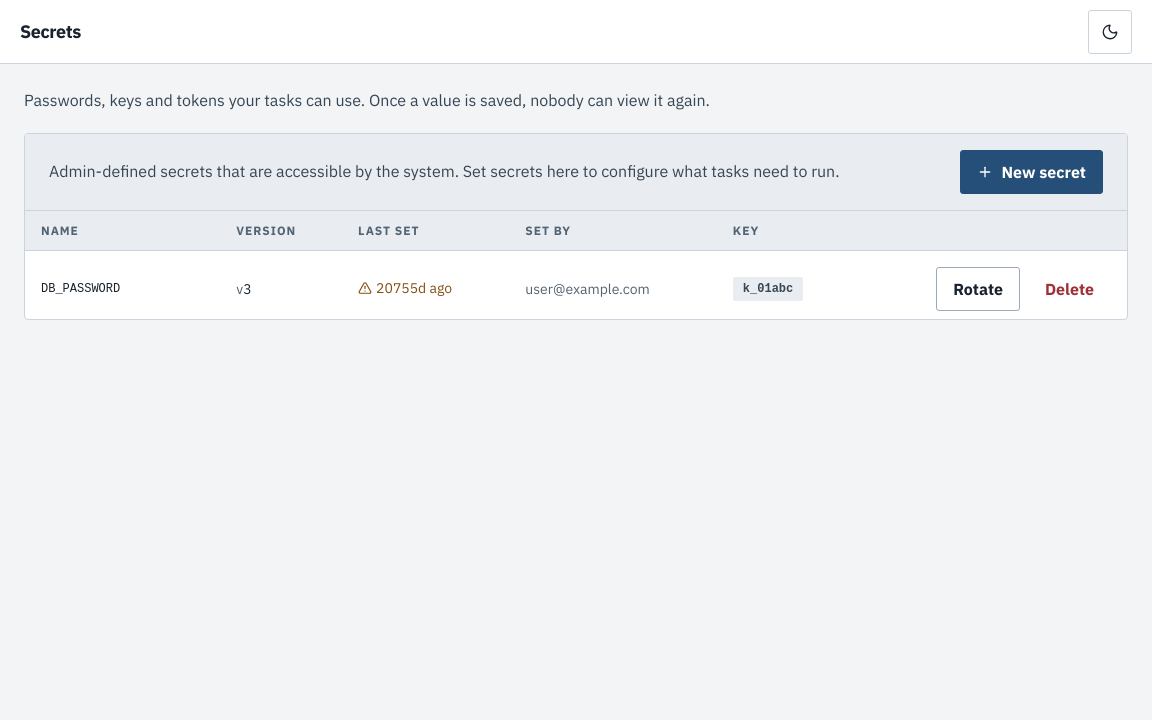
Scenario: SecretsPage › warns that setting an existing name rotates it rather than editing it
The image size is (1152, 720).
Check: the text "DB_PASSWORD" is shown, box [41,282,120,296]
Click the button "New secret": [1032, 172] box [960,150,1103,194]
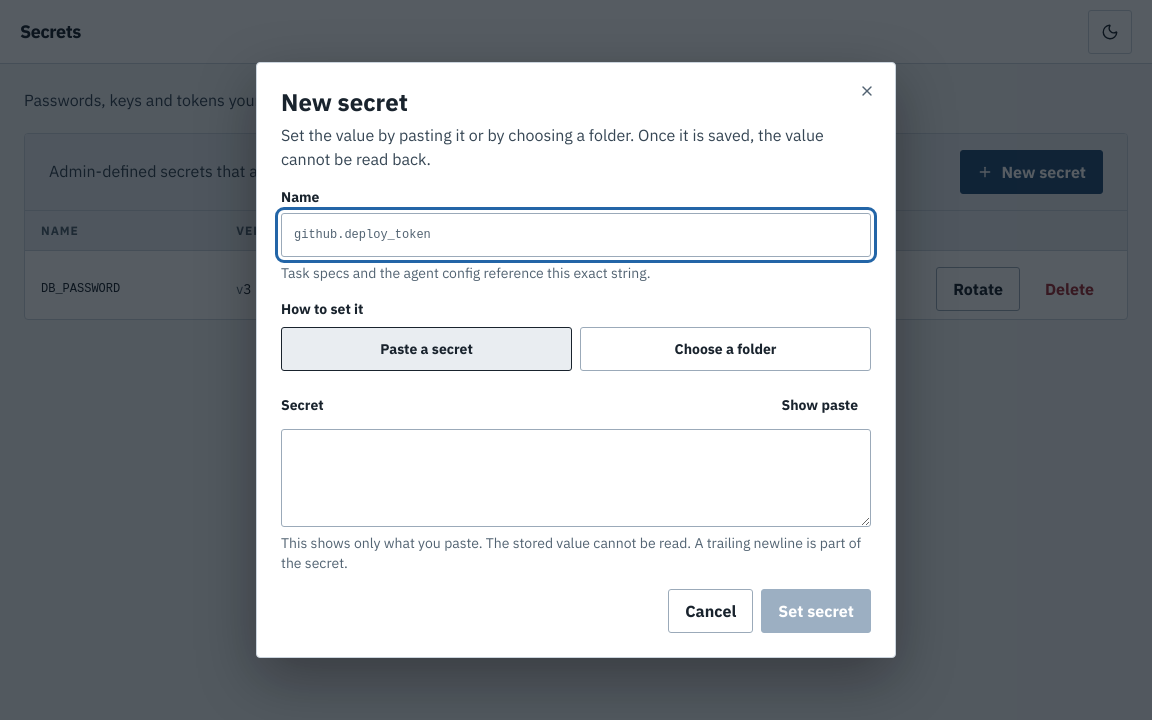
In the field labelled "Name": [576, 235] box [281,213,871,257], type "DB_PASSWORD"
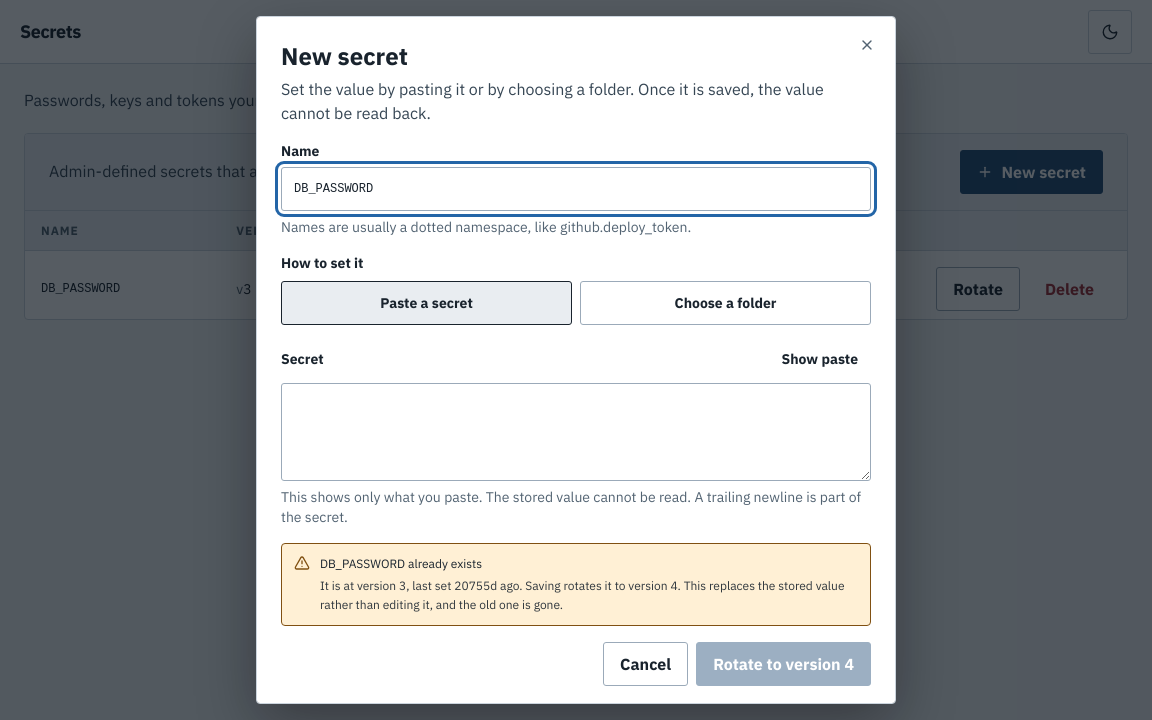
Check: the text "DB_PASSWORD already exists" is shown, box [320,556,482,571]
Check: the button "Rotate to version 4" is shown, box [696,642,871,686]
